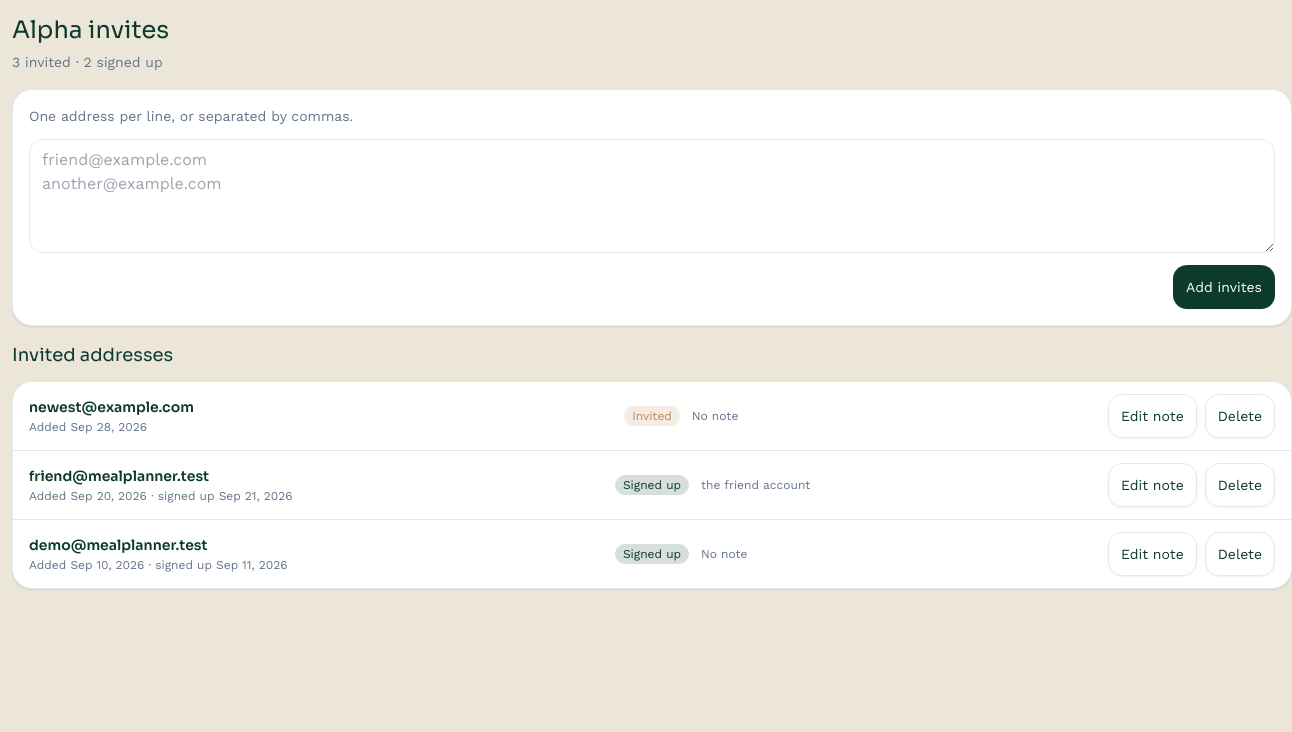
it: a failed add is announced and the typed addresses are kept
Expected: the text "demo@mealplanner.test" is shown, [29,536,208,554]
Type "a@x.com" into the text box named "Email addresses to invite".
click(652, 196); type("a@x.com")  # box [29,139,1275,253]
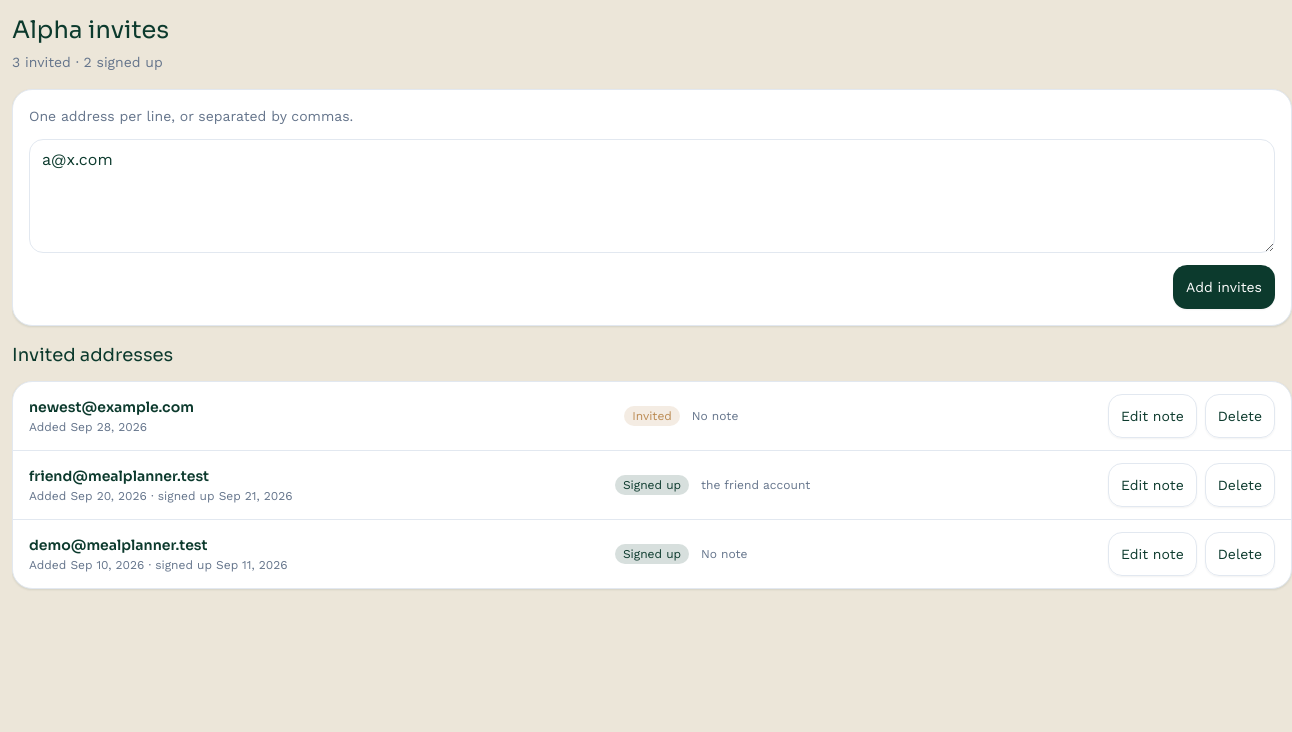
Click the button "Add invites".
click(1224, 287)  # box [1173,265,1275,309]
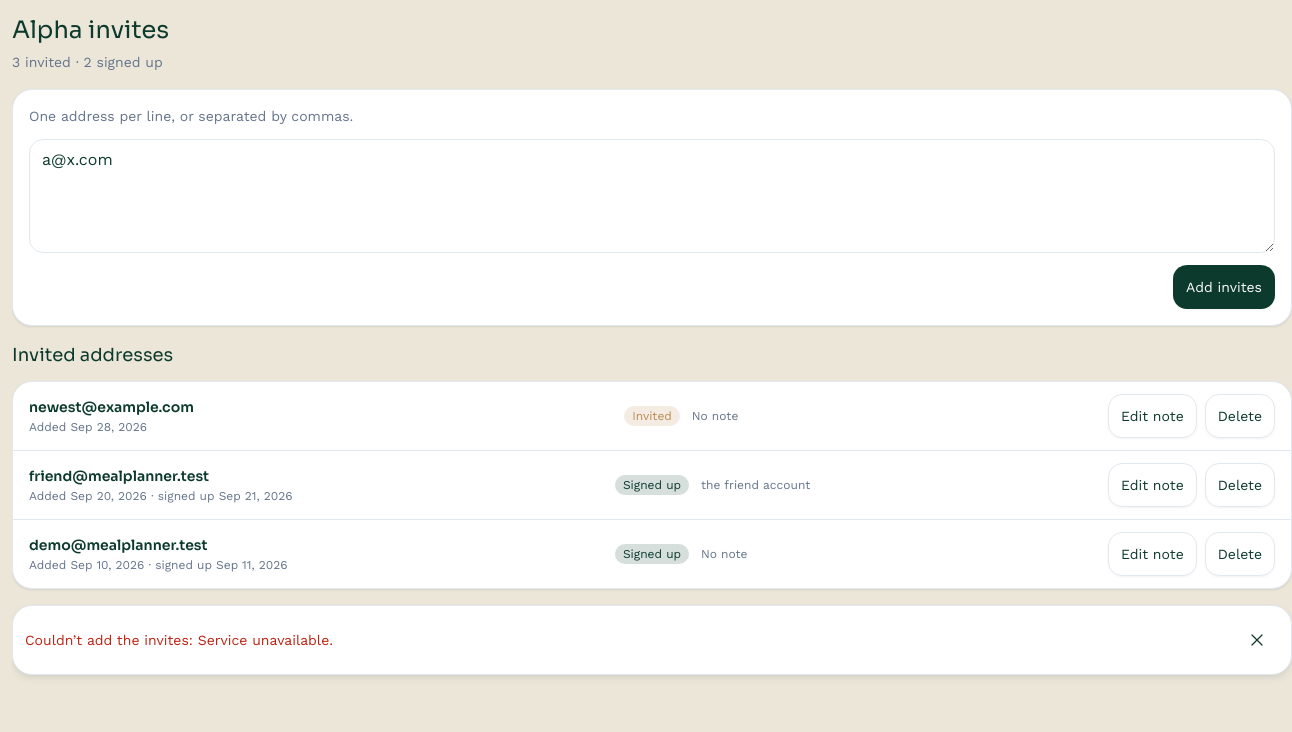
Expected: the message shows "Service unavailable", [25,632,333,648]
